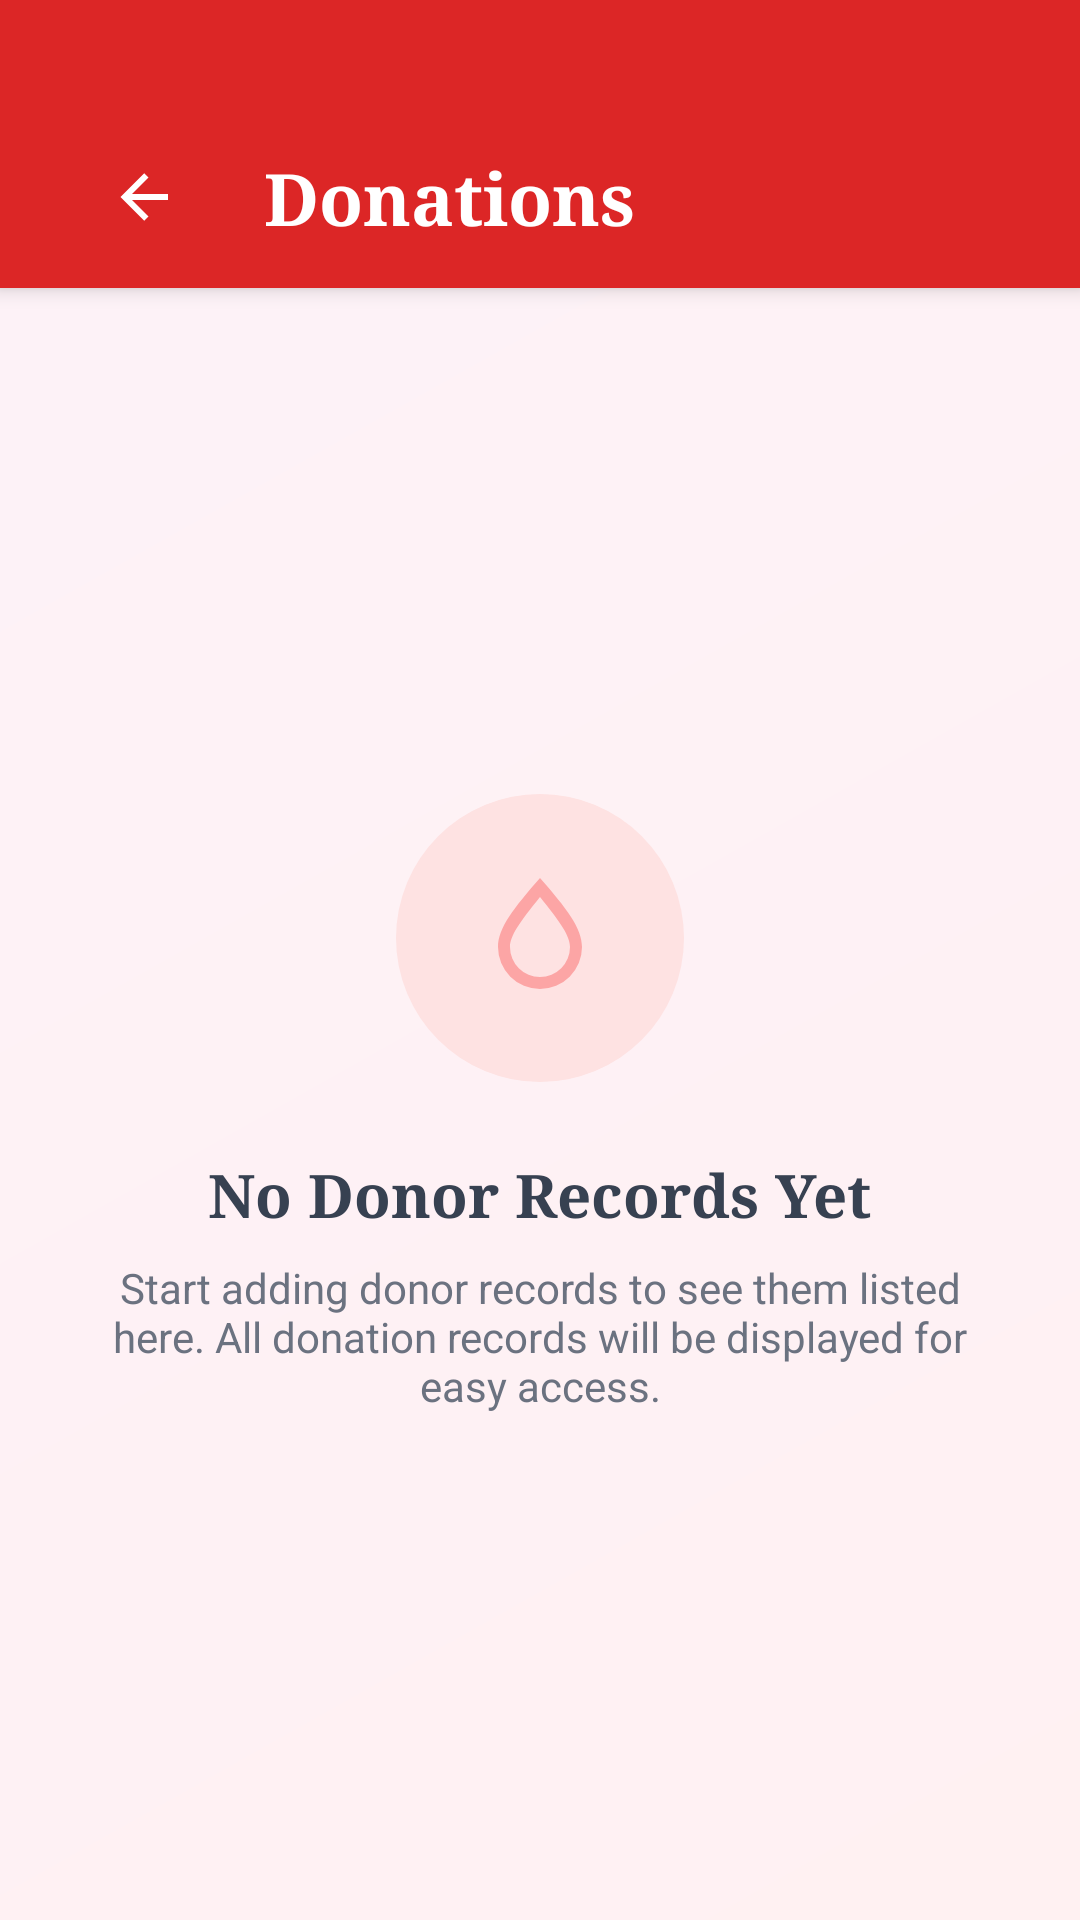

Screen size 1080*1920. Icon name, then its box in pixels as (x1, y1, x2, y2):
Back: (120, 173, 168, 221)
